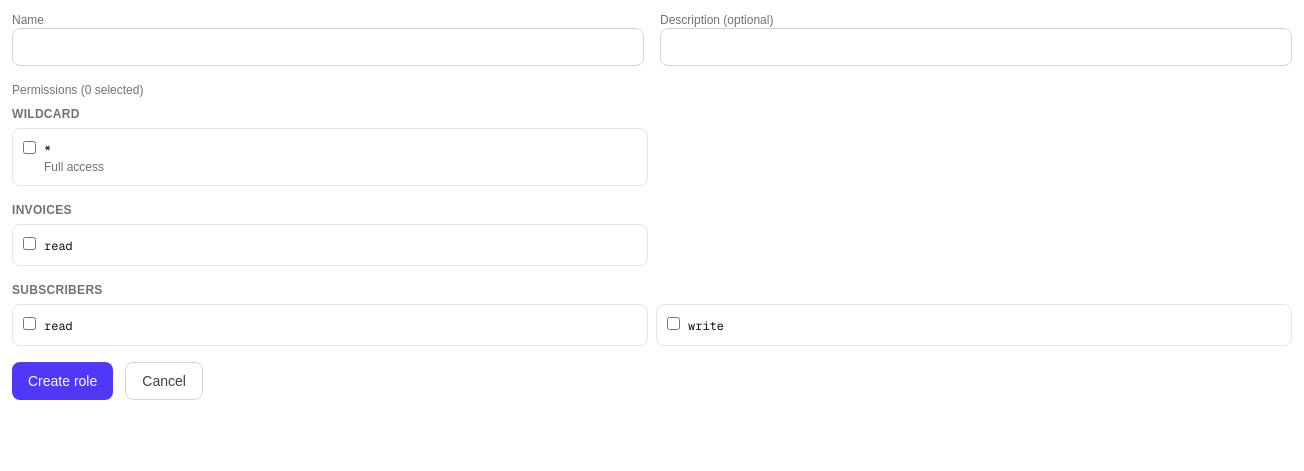
Scenario: RoleForm (create) › validates the name before submitting
Click the button "Create role": (63, 381) x1=12 y1=362 x2=113 y2=400
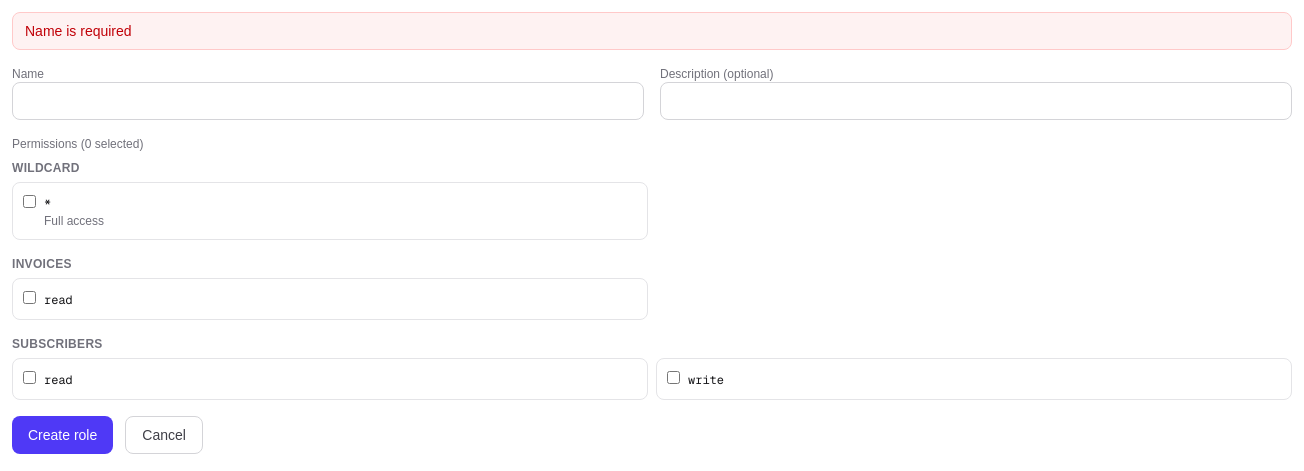
Expected: the message reads "Name is required", x1=25 y1=23 x2=132 y2=39
